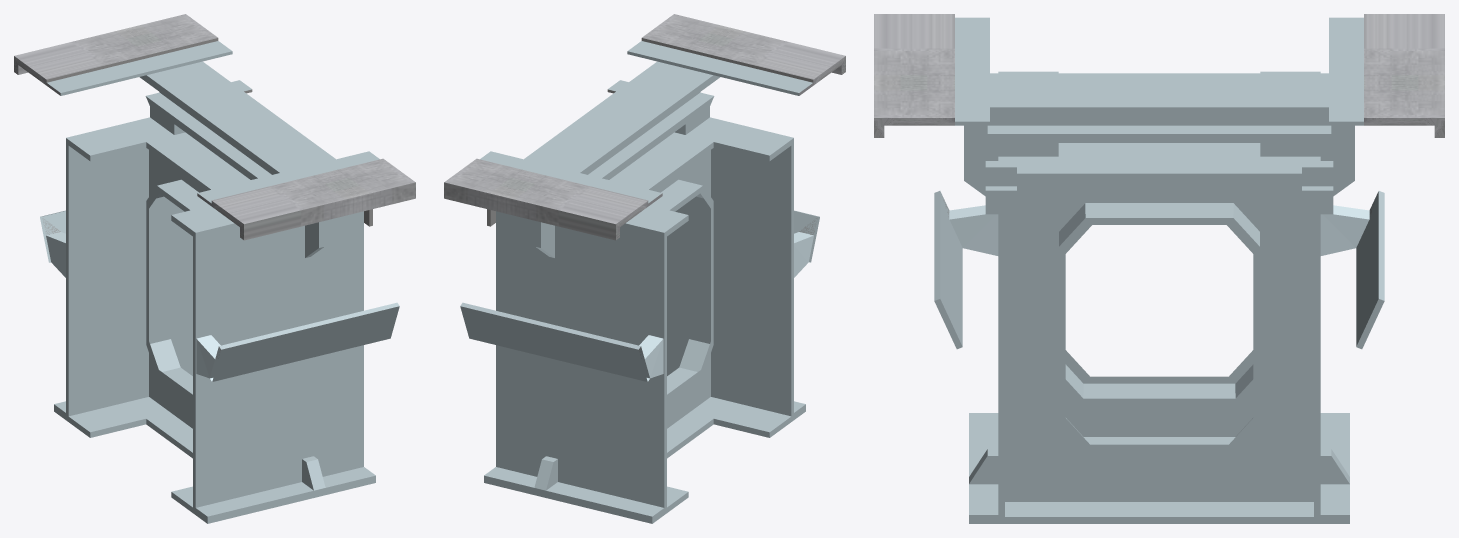
File: rail_head.dae
The picture shows the model from 3 angles, left to right: view 1: azimuth 30°, elevation 25°; view 2: azimuth 150°, elevation 25°; view 3: azimuth 270°, elevation 25°; orthographic projection. The views are drawn at different scales.
Visible parts, largest first — view 1: Cube.001; view 2: Cube.001; view 3: Cube.001.
Boxes of the visible parts, x1,y1,x2,y2 form: Cube.001: (14, 14, 415, 523); Cube.001: (444, 14, 845, 523); Cube.001: (874, 14, 1444, 523).
Bounding box in the file's own units: 1.61 × 3.54 × 2.79.
5 materials, 3 textured.
